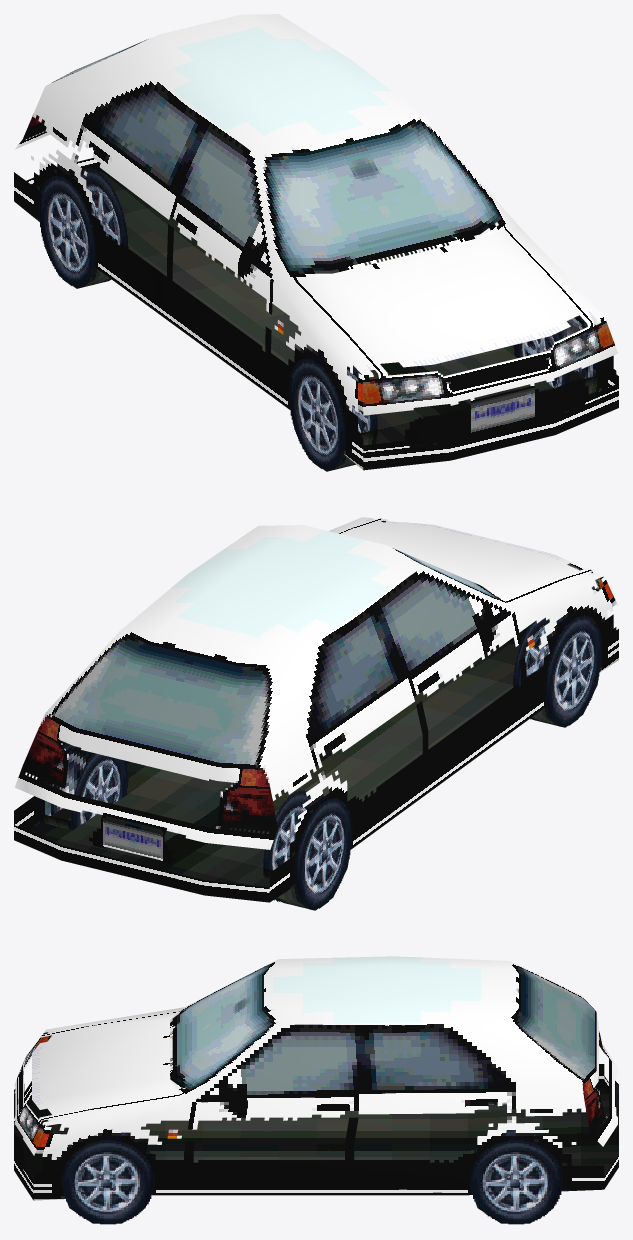
Rendered from traffic-120.glb.
3 renders of one model, top to bottom at view 1: azimuth 30°, elevation 25°; view 2: azimuth 150°, elevation 25°; view 3: azimuth 270°, elevation 25°, orthographic. The views are drawn at different scales.
Parts seen in each view (by area): view 1: body, rear axle wheels, front axle wheels; view 2: body, rear axle wheels, front axle wheels; view 3: body, rear axle wheels, front axle wheels.
Part boxes in pixels (x1,y1,x2,y2): body: (14, 14, 618, 471); rear axle wheels: (39, 167, 127, 287); front axle wheels: (289, 332, 569, 470); body: (14, 517, 618, 910); rear axle wheels: (71, 753, 352, 909); front axle wheels: (513, 615, 601, 726); body: (14, 956, 618, 1223); rear axle wheels: (470, 1102, 562, 1224); front axle wheels: (61, 1132, 154, 1224).
Bounding box in the file's own units: 16 × 14.03 × 40.01.
6 materials, 6 textured.
